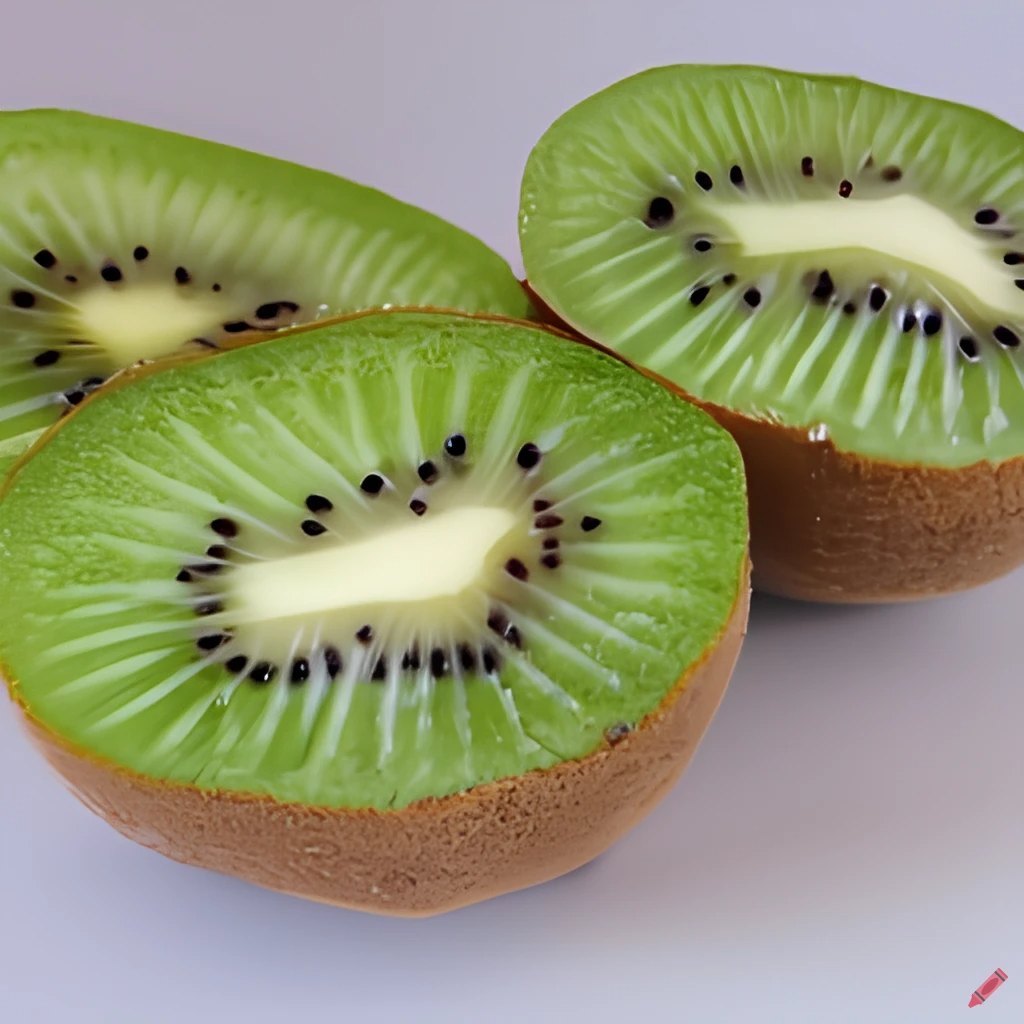Kiwi: (0, 303, 762, 966)
